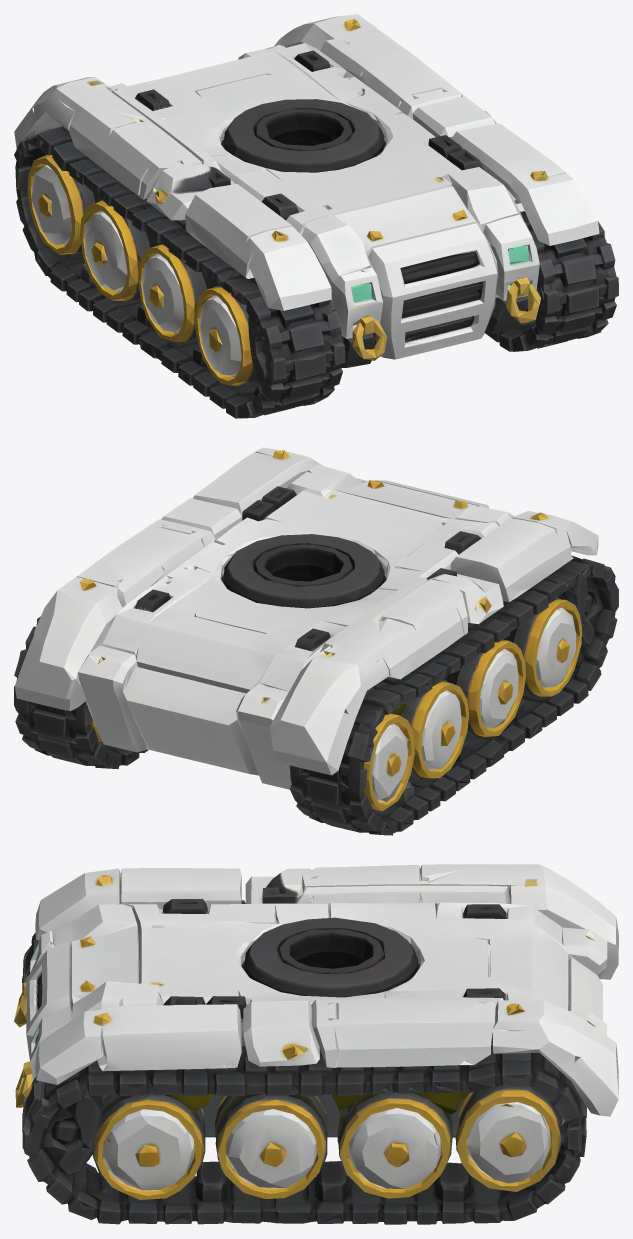
File: heavy_tracks_bang.glb
The picture shows the model from 3 angles, top to bottom: view 1: azimuth 30°, elevation 25°; view 2: azimuth 150°, elevation 25°; view 3: azimuth 270°, elevation 25°; orthographic projection. The views are drawn at different scales.
Visible parts, largest first — view 1: root.5, root.2, root.1, root.0, root.6; view 2: root.5, root.2, root.1, root.0, root.6; view 3: root.5, root.6, root.3, root.4.
Part boxes in pixels (bbox=[...]): root.5: bbox=[14, 14, 599, 368]; root.2: bbox=[14, 134, 345, 418]; root.1: bbox=[26, 126, 244, 301]; root.0: bbox=[137, 244, 257, 385]; root.6: bbox=[485, 211, 618, 351]; root.5: bbox=[14, 447, 598, 789]; root.2: bbox=[289, 556, 618, 835]; root.1: bbox=[354, 575, 569, 811]; root.0: bbox=[446, 597, 581, 737]; root.6: bbox=[14, 616, 148, 769]; root.5: bbox=[14, 864, 618, 1137]; root.6: bbox=[22, 1036, 586, 1224]; root.3: bbox=[92, 1093, 327, 1199]; root.4: bbox=[337, 1084, 562, 1198].
Bounding box in the file's own units: 1.38 × 0.6918 × 1.89.
7 materials, 7 textured.
